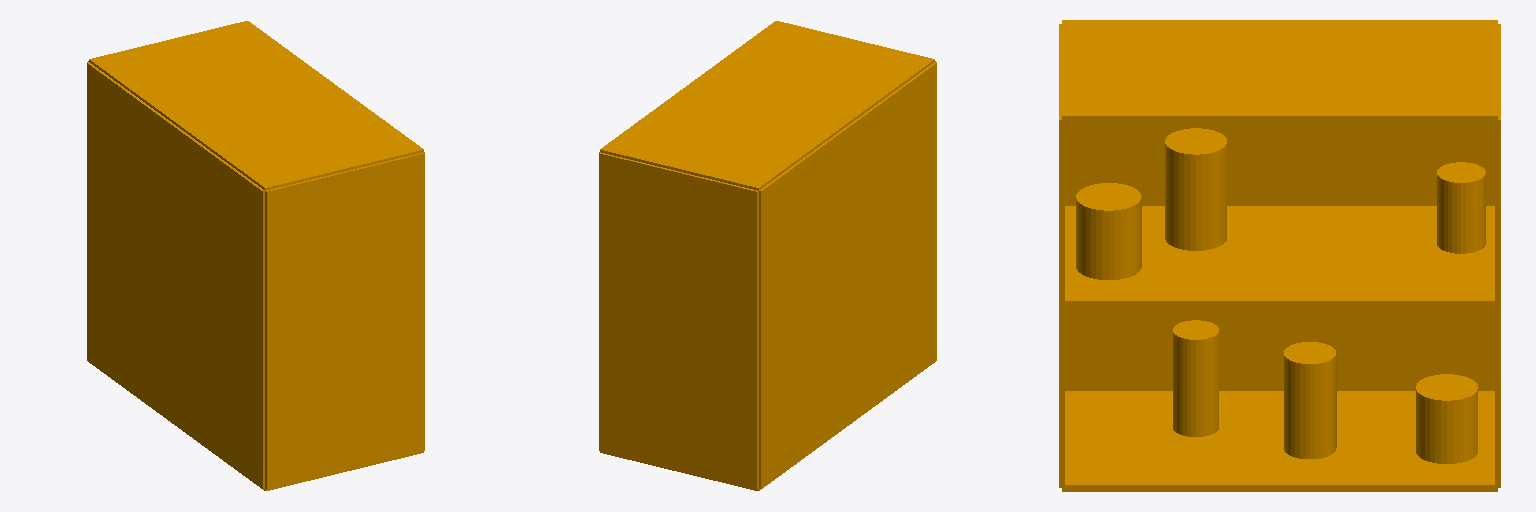
The robot description file, URDF, robot "syn_can_cabinet_31":
<?xml version="1.0" ?>
<robot name="syn_can_cabinet_31">
    <link concave="yes" name="base_link">
        <inertial>
            <origin rpy="0 0 0" xyz="0 0 0"/>
            <mass value="0.0"/>
            <inertia ixx="1e-08" ixy="0" ixz="0" iyy="1e-08" iyz="0" izz="1e-08"/>
        </inertial>
        <visual>
            <origin xyz="0 0 0" rpy="0 0 0" />
            <geometry>
                <mesh filename="syn_can_cabinet_31.obj" scale="1.000000 1.000000 1.000000"/>
            </geometry>         
        </visual>

        <collision concave="yes">
            <origin xyz="0 0 0" rpy="0 0 0"/>
            <geometry>
                <mesh filename="syn_can_cabinet_31.obj" scale="1.000000 1.000000 1.000000"/>
            </geometry>
        </collision>
    </link>
</robot>
    

--- Render facts (derived) ---
Views: 3 orthographic renders of the robot side by side, from view 1: azimuth 30°, elevation 25°; view 2: azimuth 150°, elevation 25°; view 3: azimuth 270°, elevation 25°.
Model syn_can_cabinet_31 with 1 links and 0 joints (none), rooted at base_link, posed every joint at zero.
Visible links, largest first — view 1: base_link; view 2: base_link; view 3: base_link.
Boxes of the visible links, left/top/right/bottom form: base_link: left=87, top=21, right=424, bottom=490; base_link: left=599, top=21, right=936, bottom=490; base_link: left=1059, top=20, right=1500, bottom=491.
Bounding box of the posed robot: 0.2126 × 0.4083 × 0.3818 m (x, y, z).
1 mesh visuals loaded from 1 distinct referenced files (1 OBJ).
